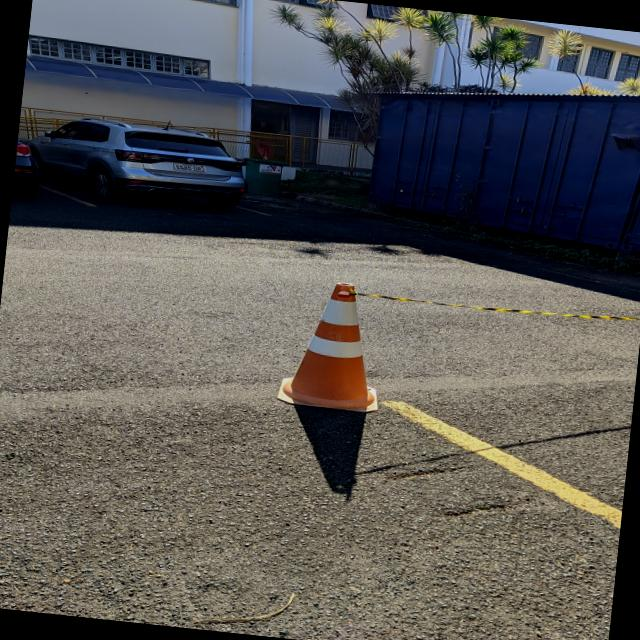cone: (270, 275, 396, 418)
